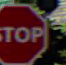Stop: (0, 0, 49, 64)
